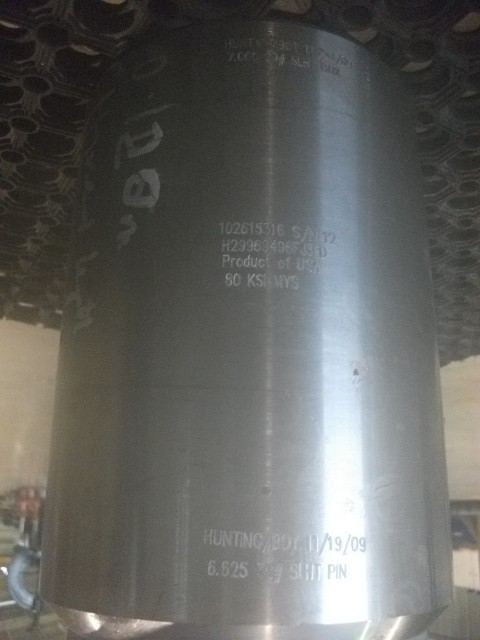character: (320, 532, 329, 556), (281, 534, 292, 553), (239, 560, 250, 579), (212, 528, 222, 547), (243, 531, 253, 550), (343, 534, 352, 554), (328, 231, 339, 247), (290, 275, 301, 291), (223, 529, 232, 548), (203, 527, 212, 545), (253, 533, 262, 551), (221, 559, 230, 577), (305, 257, 314, 274), (339, 563, 348, 580), (232, 529, 240, 548), (230, 560, 238, 579), (295, 256, 305, 271), (220, 253, 229, 269), (233, 271, 241, 289), (254, 272, 263, 288), (263, 533, 271, 551), (272, 533, 280, 551), (334, 535, 342, 553), (328, 563, 336, 581), (207, 559, 215, 577), (317, 246, 327, 260), (312, 535, 319, 555), (246, 272, 254, 289), (232, 220, 241, 235), (230, 238, 239, 253), (352, 536, 359, 555), (292, 225, 302, 238), (224, 272, 232, 288), (277, 223, 286, 237), (261, 239, 270, 253), (283, 273, 290, 291), (221, 237, 229, 252), (306, 534, 312, 554), (293, 534, 300, 551), (292, 241, 301, 254), (241, 221, 249, 235), (255, 221, 263, 235), (246, 238, 254, 252), (254, 239, 262, 253), (285, 256, 293, 270), (225, 51, 234, 63), (360, 537, 366, 555), (244, 254, 251, 269), (277, 240, 285, 253), (264, 52, 272, 65), (218, 221, 225, 235), (263, 222, 270, 236), (239, 239, 246, 253), (285, 240, 292, 254), (279, 54, 287, 66), (270, 239, 277, 252), (251, 256, 258, 269), (290, 55, 297, 68), (249, 220, 255, 235), (265, 254, 271, 269), (236, 257, 244, 268), (225, 221, 231, 235), (322, 230, 328, 244), (328, 536, 333, 552), (252, 52, 259, 63), (230, 256, 236, 268), (238, 51, 244, 63), (245, 51, 251, 63), (278, 258, 285, 268), (270, 223, 275, 236), (259, 258, 265, 268), (272, 52, 276, 66), (240, 531, 243, 549), (336, 563, 339, 580), (215, 573, 219, 577)
